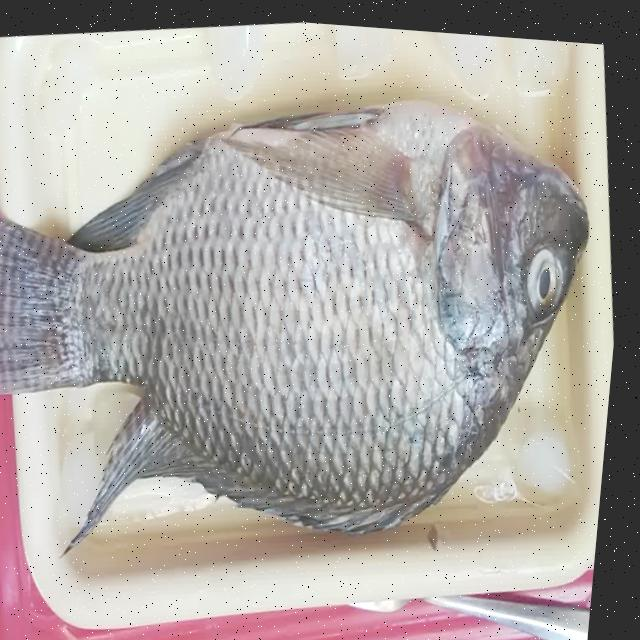Fresh: (147, 91, 544, 527), (512, 216, 590, 332)
